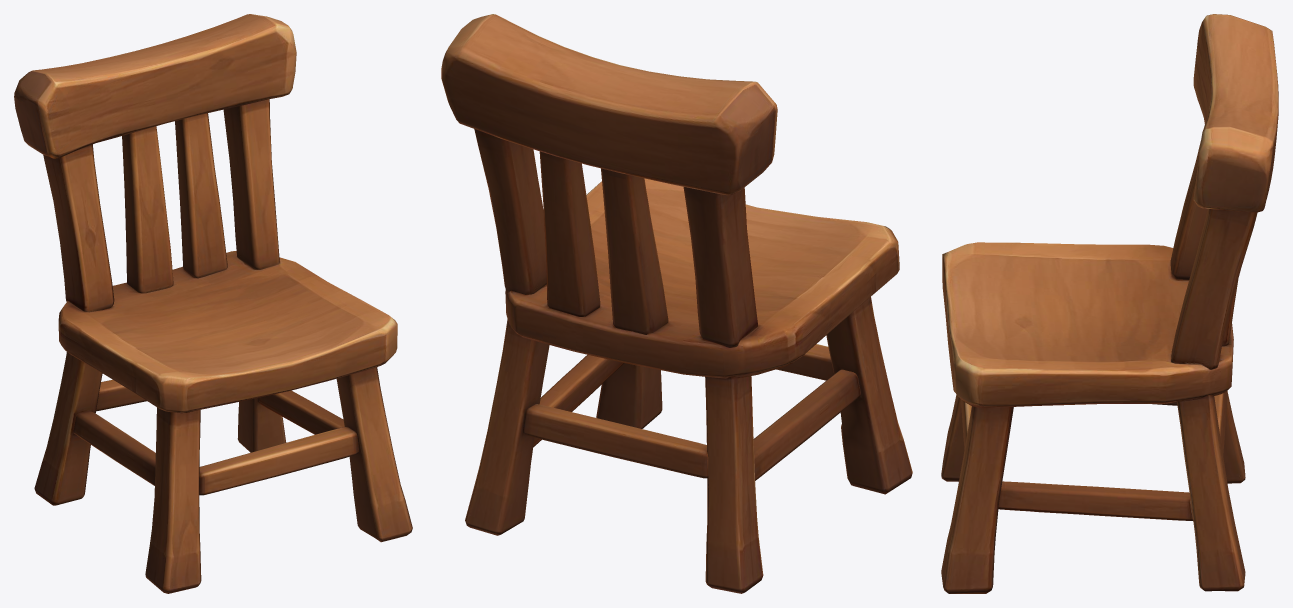
Rendered from chair.glb.
3 views of the same model, side by side, from view 1: azimuth 30°, elevation 25°; view 2: azimuth 150°, elevation 25°; view 3: azimuth 270°, elevation 25° (orthographic). The views are drawn at different scales.
Visible parts, largest first — view 1: tripo_0b34a200_0f8b_4a6b_b2dd_8bee937bd3b4; view 2: tripo_0b34a200_0f8b_4a6b_b2dd_8bee937bd3b4; view 3: tripo_0b34a200_0f8b_4a6b_b2dd_8bee937bd3b4.
Part boxes in pixels (<box>): tripo_0b34a200_0f8b_4a6b_b2dd_8bee937bd3b4: <box>14,14,412,593</box>; tripo_0b34a200_0f8b_4a6b_b2dd_8bee937bd3b4: <box>441,14,912,593</box>; tripo_0b34a200_0f8b_4a6b_b2dd_8bee937bd3b4: <box>941,14,1278,593</box>.
Size of the model in its own units: 0.6372 by 0.9995 by 0.6636.
1 material, 1 textured.
